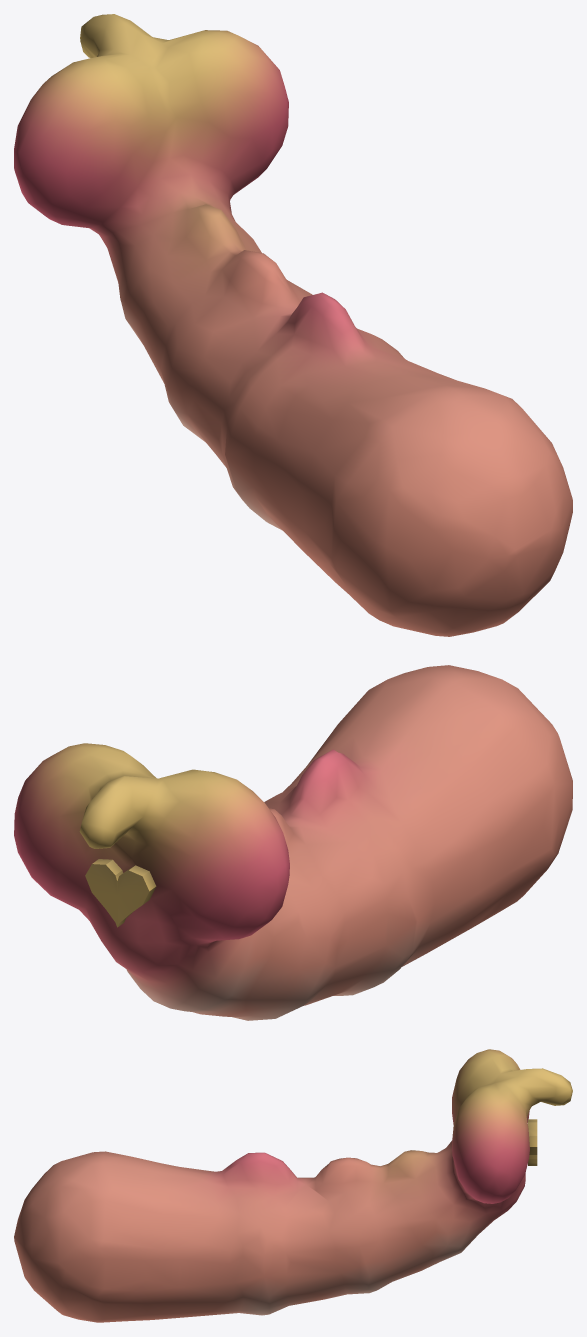
Rendered from fire-tail.glb.
3 views of the same model, one above another, from view 1: azimuth 30°, elevation 25°; view 2: azimuth 150°, elevation 25°; view 3: azimuth 270°, elevation 25° (orthographic). The views are drawn at different scales.
Parts seen in each view (by area): view 1: fire-tail; view 2: fire-tail; view 3: fire-tail.
Boxes of the visible parts, x1,y1,x2,y2 form: fire-tail: [14, 14, 572, 636]; fire-tail: [14, 665, 572, 1020]; fire-tail: [14, 1049, 572, 1322].
Size of the model in its own units: 0.1141 by 0.1515 by 0.3122.
